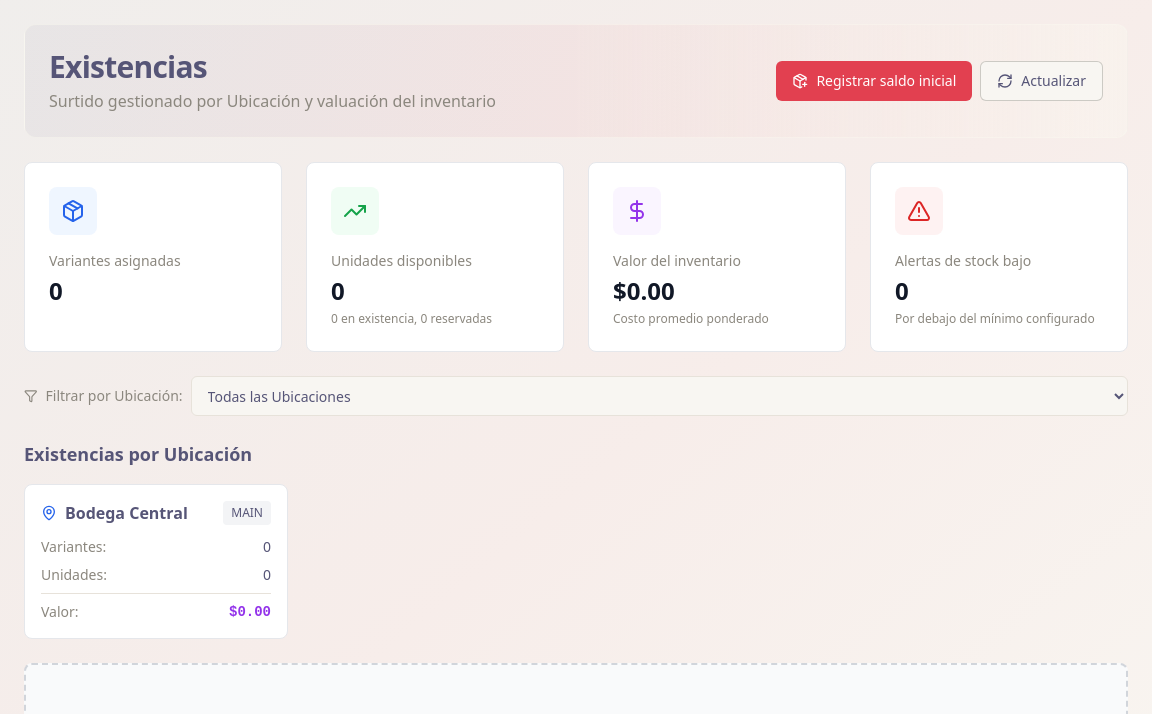
Test: Existencias — Opening Balance entry point (#570) › blocks the Location Detail View on a 403 even with cached location stock, instead of the stale-data notice
Select "Bodega Central (MAIN)" in the dropdown at (659, 396), box [191,376,1128,416]
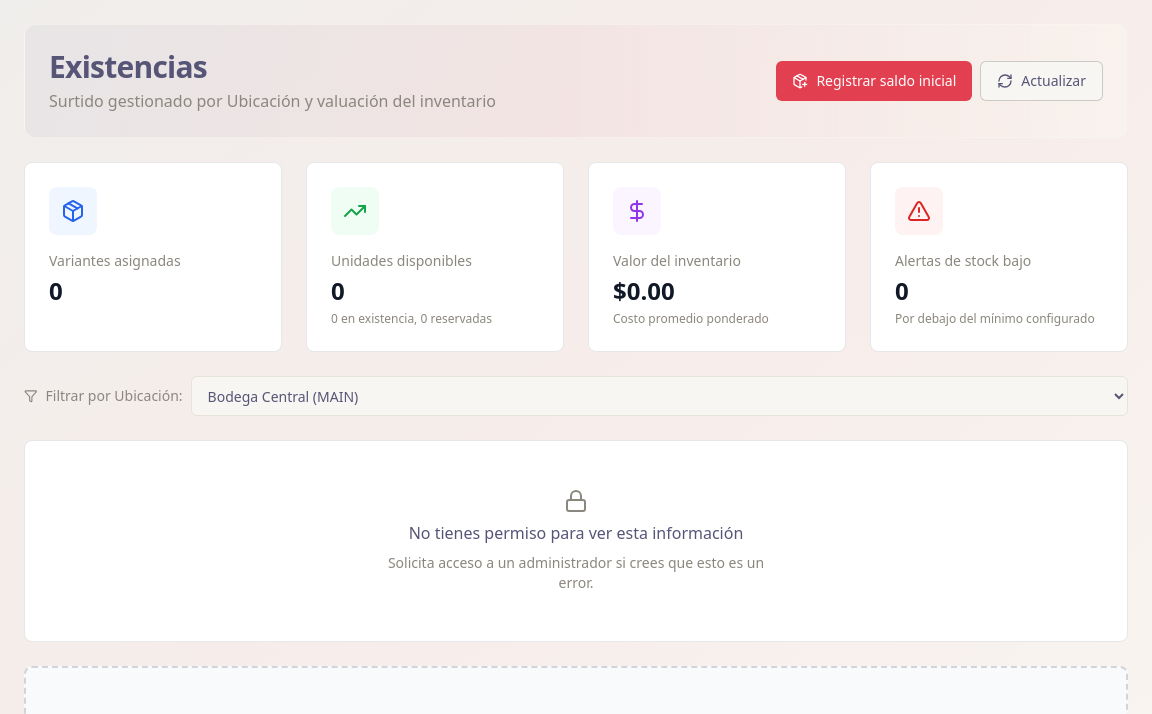
Check: the text "No tienes permiso para ver esta información" is shown, box [409,521,743,545]
